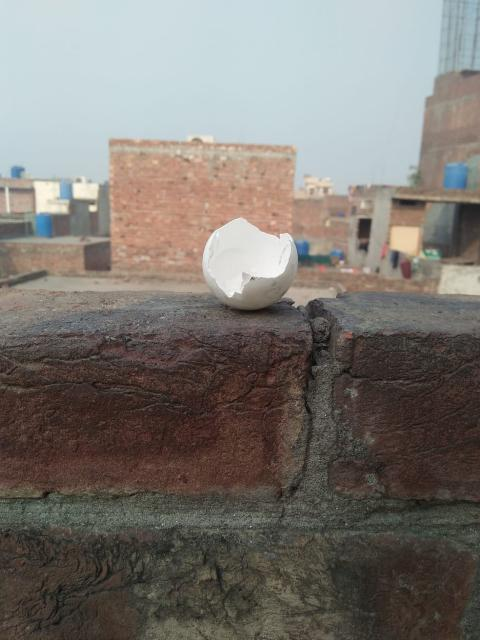Roto: (201, 216, 298, 310)
